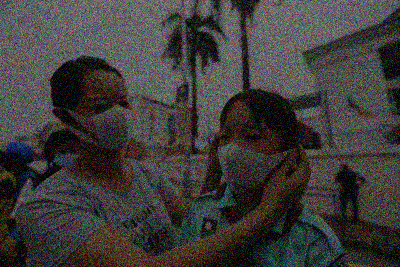with_mask: (216, 122, 280, 194), (77, 92, 134, 151)
